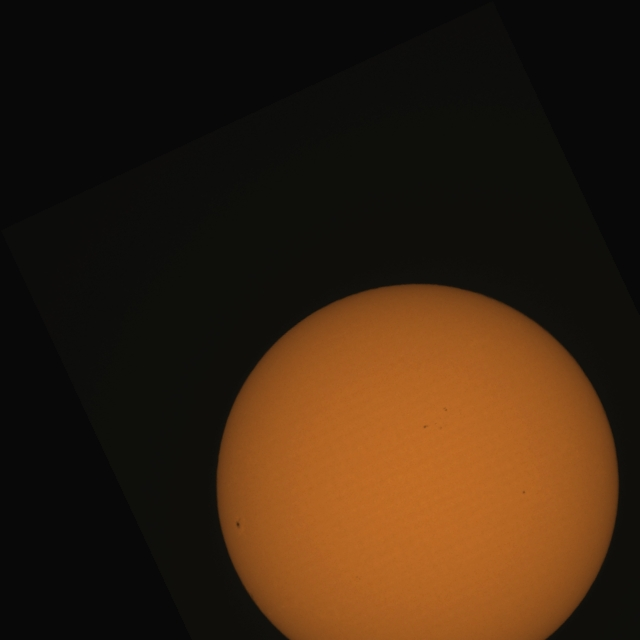sunspot: (422, 422, 444, 431), (235, 518, 241, 530), (422, 424, 429, 430), (442, 406, 448, 412), (438, 424, 443, 431), (522, 490, 526, 495)
